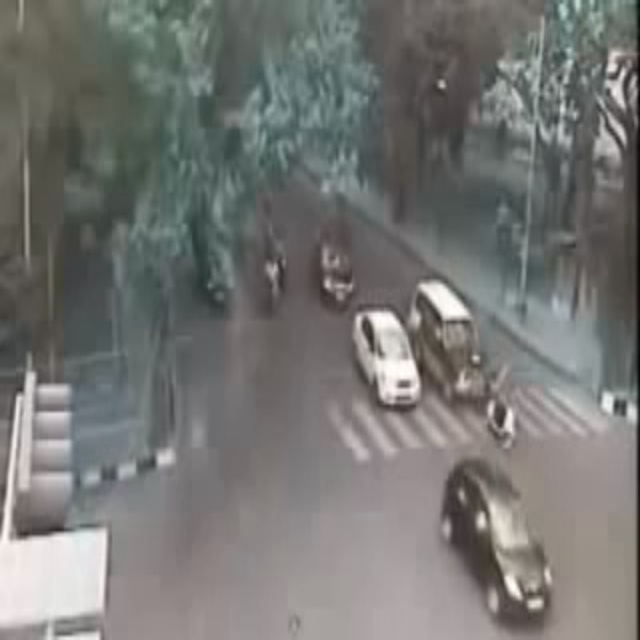acc: (436, 337, 521, 451)
